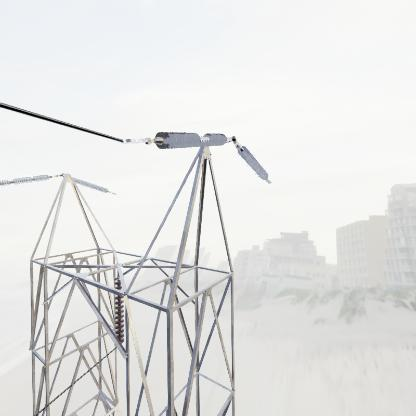insulator: (233, 137, 272, 185), (149, 129, 228, 151), (112, 276, 126, 344), (70, 176, 115, 196), (0, 173, 51, 187)
